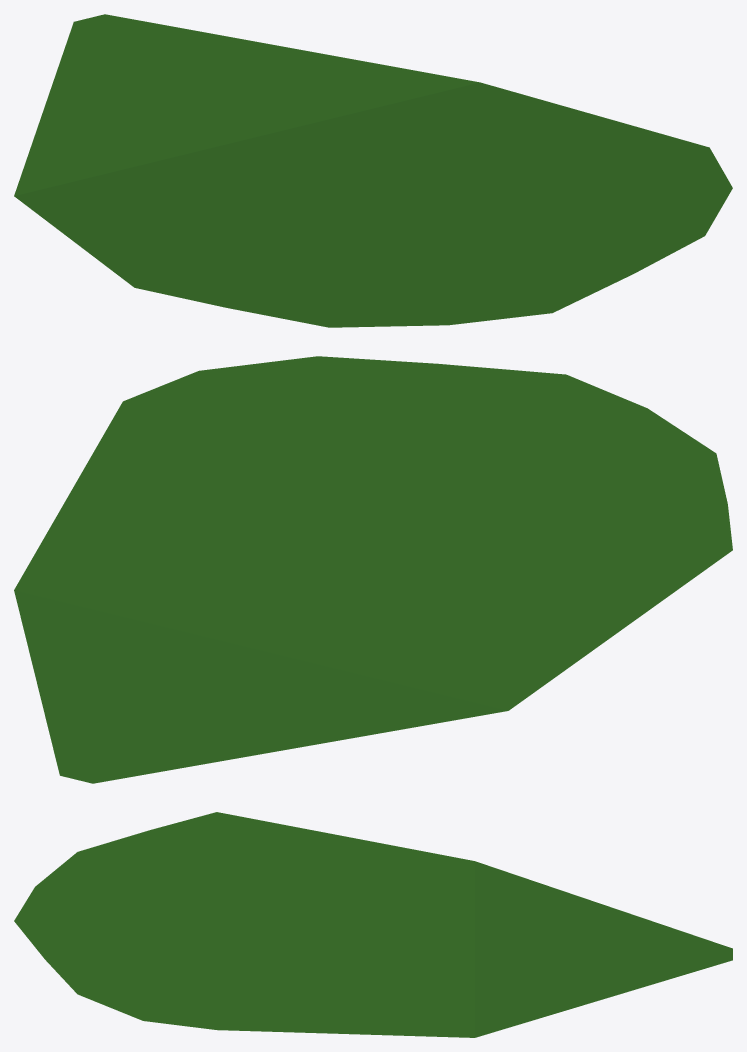
The model's file is Bazalka.glb.
The picture shows the model from 3 angles, top to bottom: view 1: azimuth 30°, elevation 25°; view 2: azimuth 150°, elevation 25°; view 3: azimuth 270°, elevation 25°; orthographic projection. The views are drawn at different scales.
Visible parts, largest first — view 1: Bazalka; view 2: Bazalka; view 3: Bazalka.
Part boxes in pixels (x1,y1,x2,y2): Bazalka: (14, 14, 732, 327); Bazalka: (14, 356, 732, 783); Bazalka: (14, 812, 732, 1037).
Size of the model in its own units: 0.0247 by 0.00178 by 0.0345.
